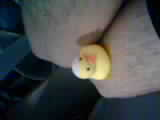duck: (68, 38, 117, 99)
